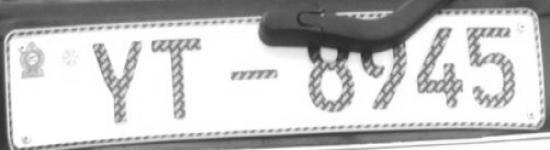-: (222, 65, 292, 95)
4: (409, 16, 465, 115)
5: (465, 16, 523, 118)
8: (303, 18, 360, 115)
9: (359, 18, 410, 115)
T: (150, 33, 212, 127)
Y: (88, 35, 150, 128)
